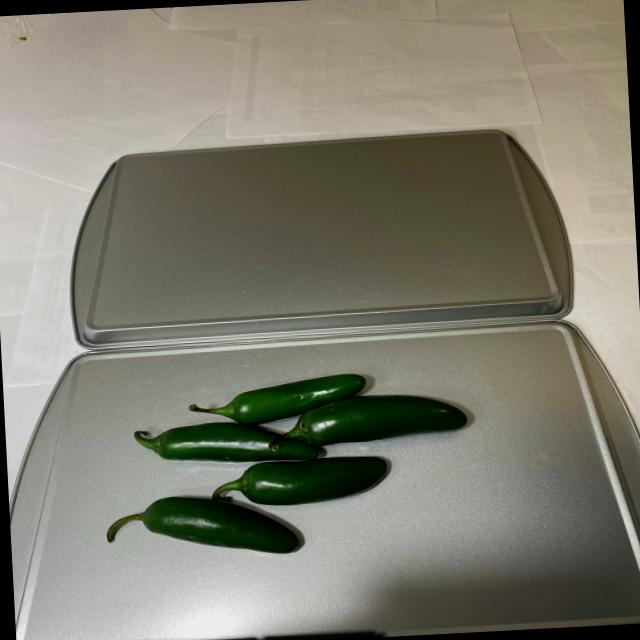chilli: (92, 362, 476, 560)
